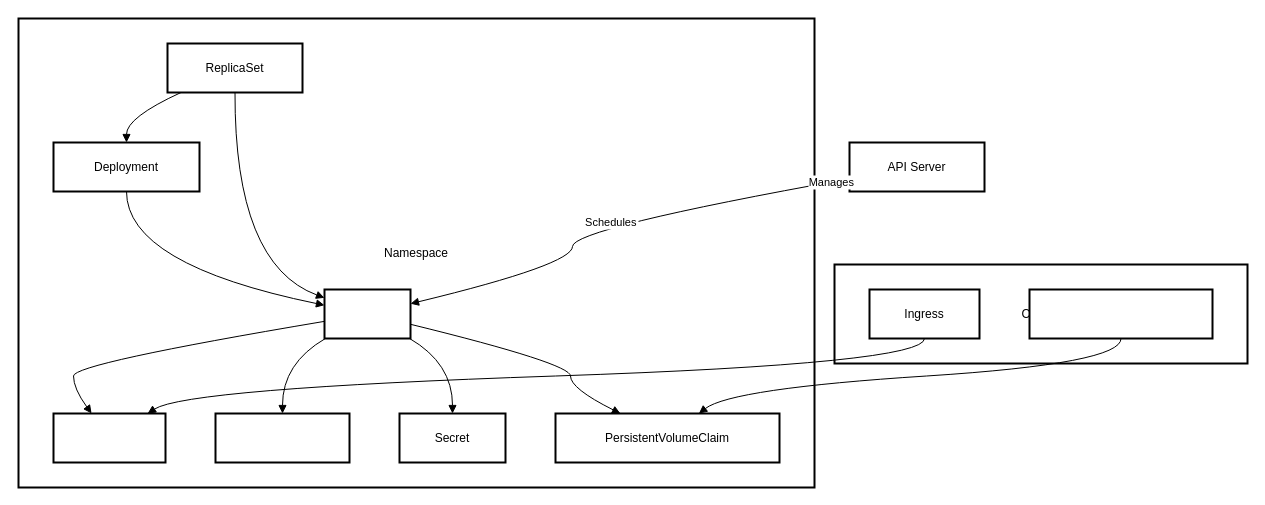
The diagram is 1265 pixels wide and 505 high, and some of its shapes have lost their labels. Each missing label, with the box of its shape:
ConfigMap: (214, 412, 350, 463)
PersistentVolume: (1028, 288, 1213, 339)
Pod: (323, 288, 411, 339)
Service: (52, 412, 166, 463)
